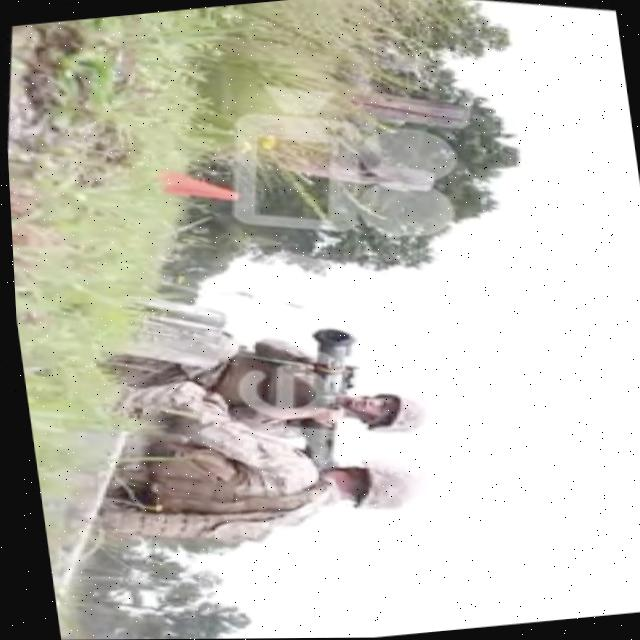rocket: (281, 324, 367, 471)
